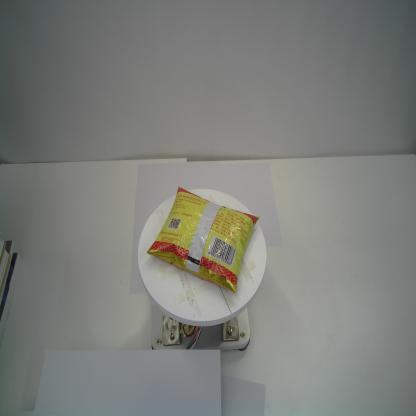Seasoner: (146, 186, 259, 294)
